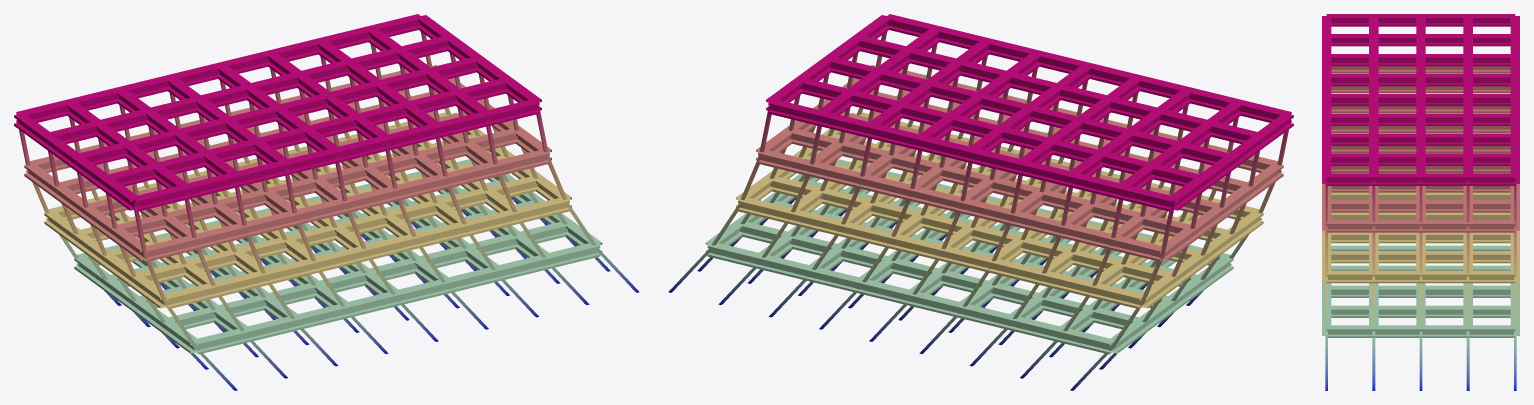
File: building.gltf
3 views of the same model, side by side, from view 1: azimuth 30°, elevation 25°; view 2: azimuth 150°, elevation 25°; view 3: azimuth 270°, elevation 25° (orthographic). The views are drawn at different scales.
Parts seen in each view (by area): view 1: Mesh_0; view 2: Mesh_0; view 3: Mesh_0.
Part boxes in pixels (bbox=[...]): Mesh_0: bbox=[14, 14, 639, 390]; Mesh_0: bbox=[668, 14, 1293, 390]; Mesh_0: bbox=[1322, 14, 1519, 390].
Size of the model in its own units: 50.66 by 20.5 by 21.
